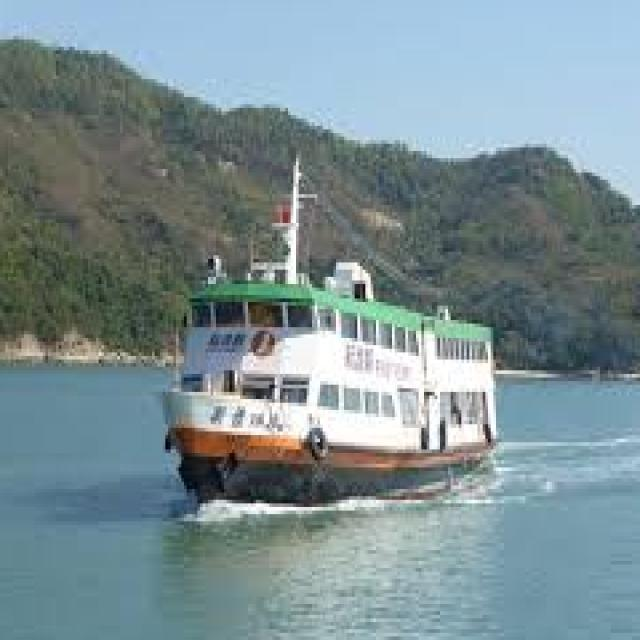passenger ship: (181, 190, 513, 490)
